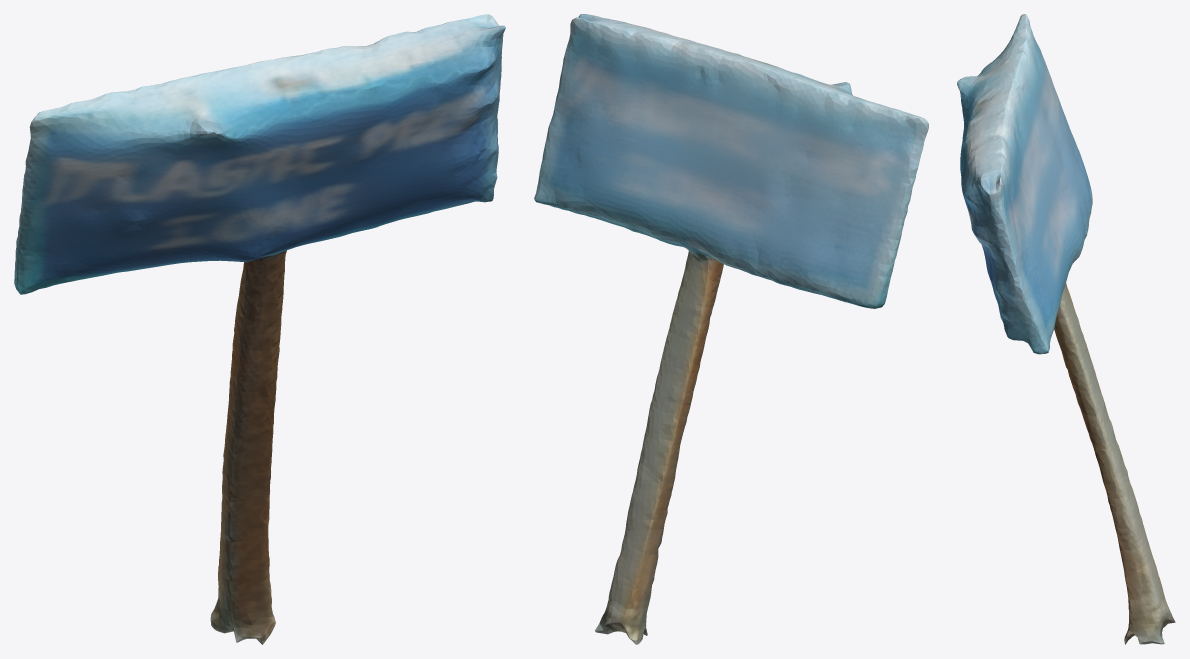
The model's file is kare-plastic-free-zone-board.obj.
3 views of the same model, side by side, from view 1: azimuth 30°, elevation 25°; view 2: azimuth 150°, elevation 25°; view 3: azimuth 270°, elevation 25° (orthographic). The views are drawn at different scales.
Bounding box in the file's own units: 0.7403 × 0.9952 × 0.3763.
